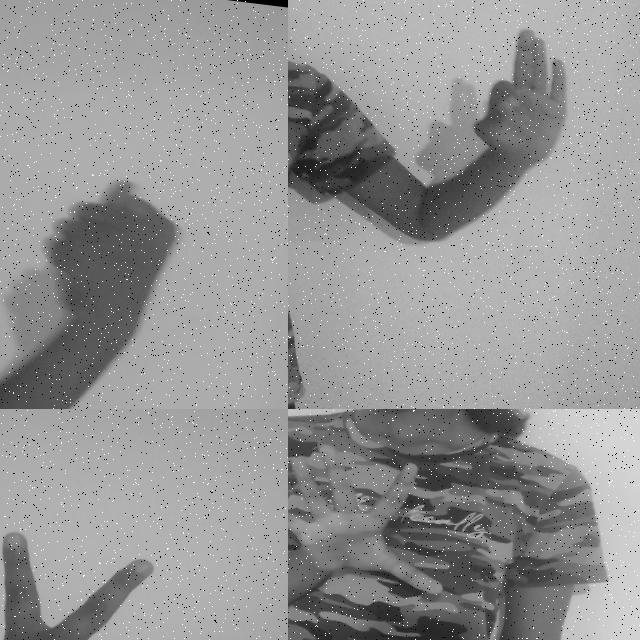Dulya: (19, 155, 190, 360)
Moutza: (288, 430, 464, 626)
Okay: (456, 18, 596, 192)
Reversed Victory: (0, 499, 183, 640)
